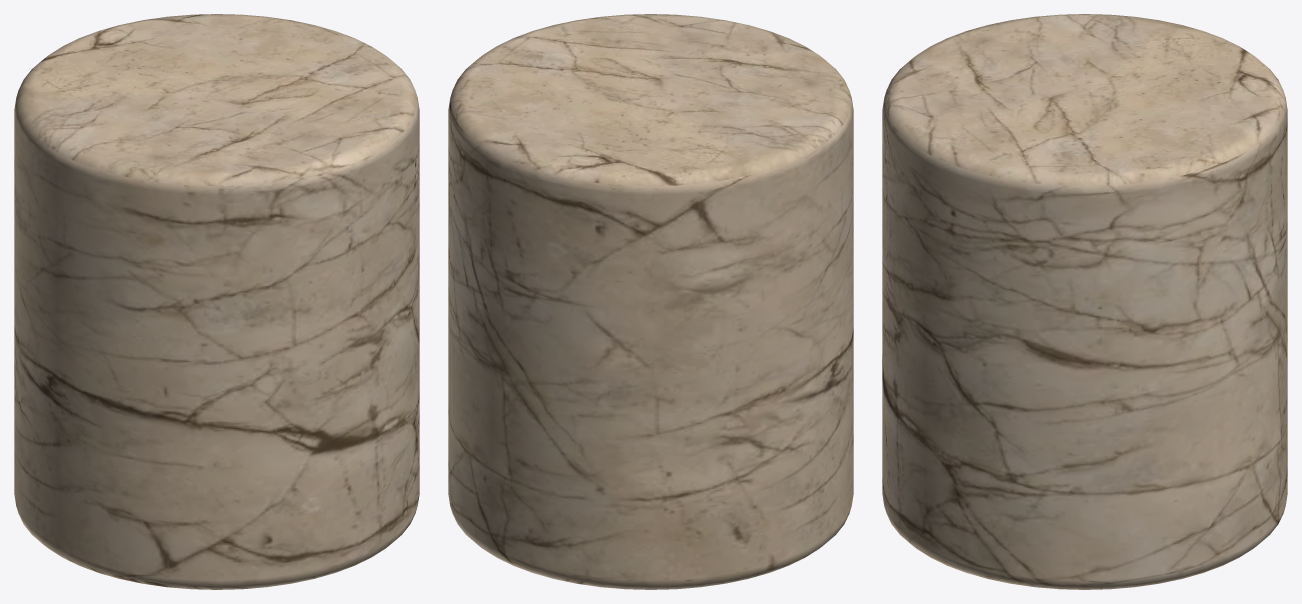
The model's file is nightstand.glb.
3 views of the same model, side by side, from view 1: azimuth 30°, elevation 25°; view 2: azimuth 150°, elevation 25°; view 3: azimuth 270°, elevation 25° (orthographic).
Parts seen in each view (by area): view 1: Stone bedside table.004; view 2: Stone bedside table.004; view 3: Stone bedside table.004.
Part boxes in pixels (x1,y1,x2,y2): Stone bedside table.004: (14, 14, 419, 589); Stone bedside table.004: (448, 14, 853, 589); Stone bedside table.004: (882, 14, 1287, 589).
Size of the model in its own units: 0.6 by 0.68 by 0.6.
Materials: 1 (1 with a texture image).
